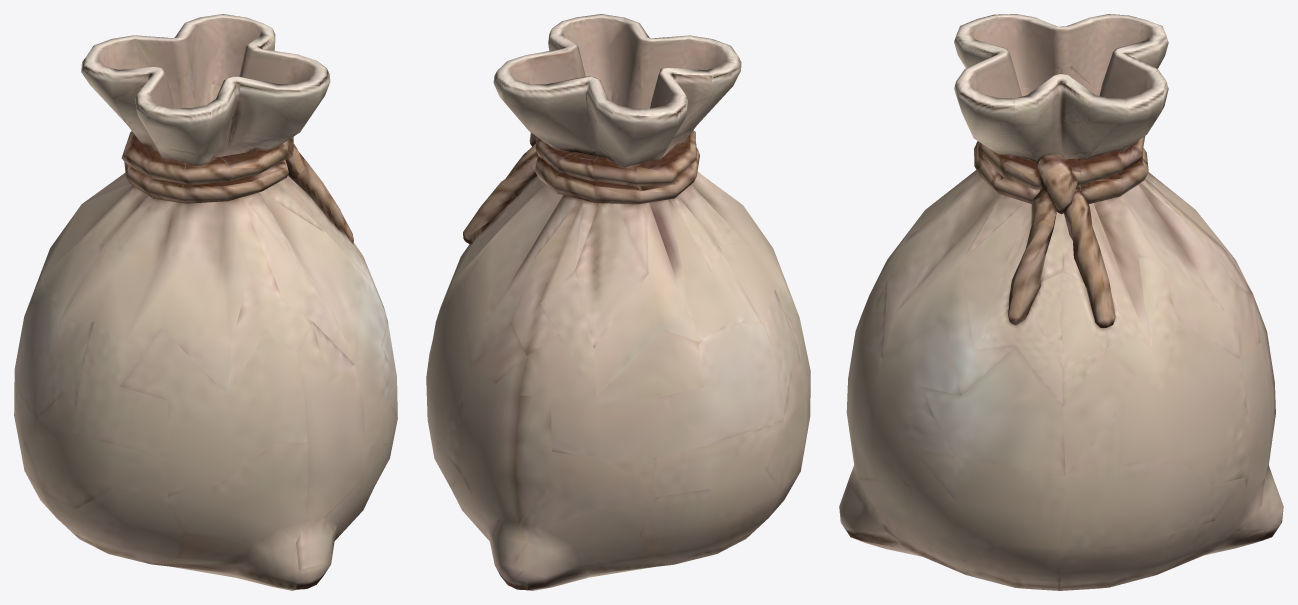
The model's file is item-flour.glb.
3 views of the same model, side by side, from view 1: azimuth 30°, elevation 25°; view 2: azimuth 150°, elevation 25°; view 3: azimuth 270°, elevation 25° (orthographic). The views are drawn at different scales.
Bounding box in the file's own units: 0.7158 × 0.9512 × 0.7832.
1 material, 1 textured.
